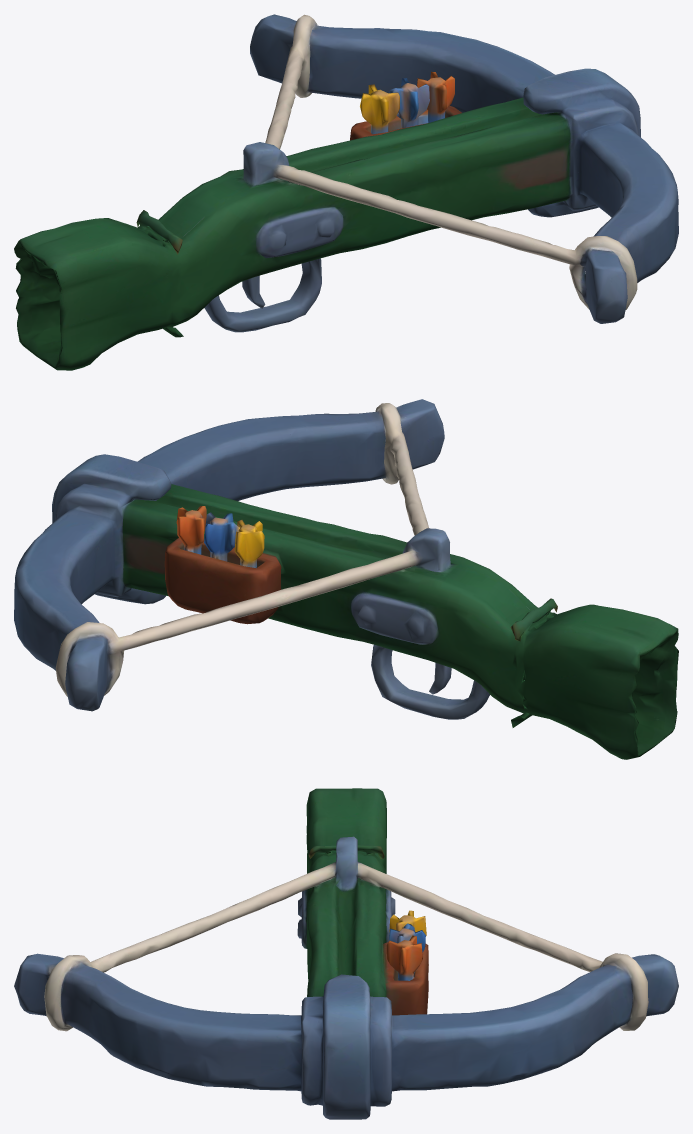
Rendered from Arm_tracker_xbow-Dc0n_CcE.glb.
3 views of the same model, one above another, from view 1: azimuth 30°, elevation 25°; view 2: azimuth 150°, elevation 25°; view 3: azimuth 270°, elevation 25° (orthographic). The views are drawn at different scales.
Parts seen in each view (by area): view 1: Arm_tracker_xbow; view 2: Arm_tracker_xbow; view 3: Arm_tracker_xbow.
Boxes of the visible parts, bbox=[...] form: Arm_tracker_xbow: bbox=[14, 14, 678, 370]; Arm_tracker_xbow: bbox=[14, 399, 678, 759]; Arm_tracker_xbow: bbox=[14, 788, 678, 1119].
Size of the model in its own units: 1.4 by 0.4033 by 1.46.
1 material, 1 textured.
